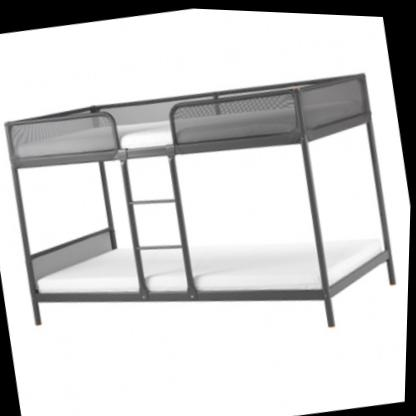Bed: (0, 48, 411, 379)
